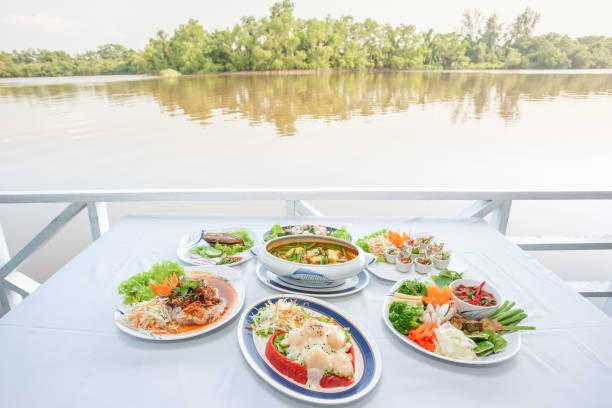Braised Crucian Carp: (236, 293, 378, 403), (381, 277, 520, 366), (110, 267, 243, 341), (255, 234, 368, 296)
